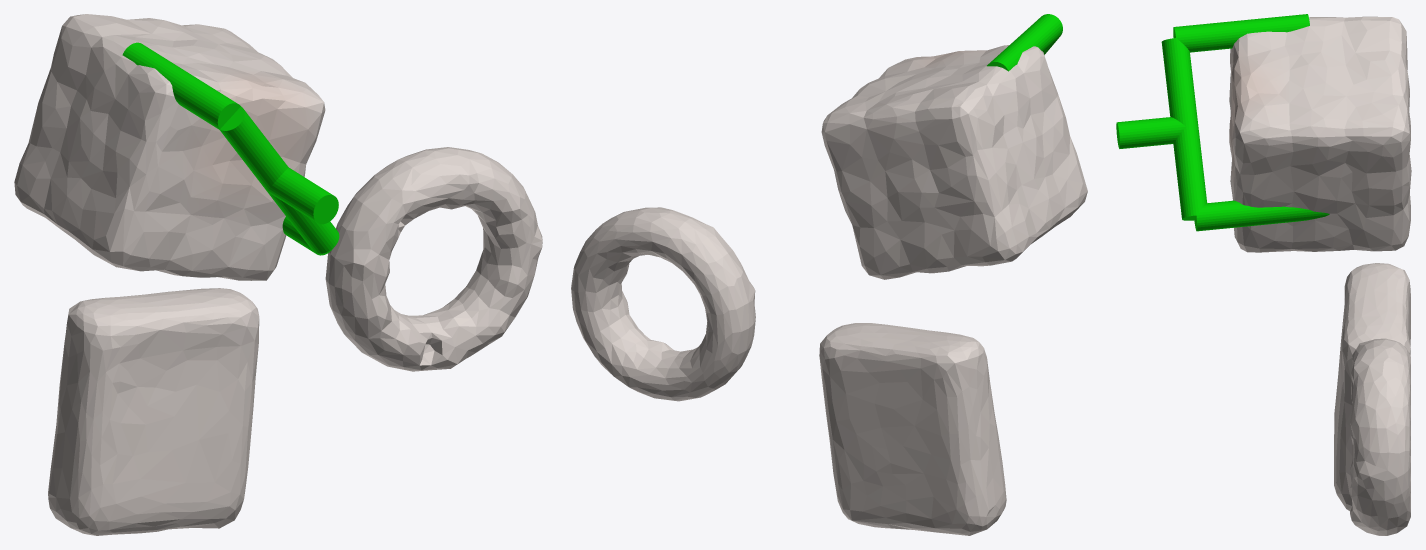
Rendered from round_000_trial_001.obj.
3 views of the same model, side by side, from view 1: azimuth 30°, elevation 25°; view 2: azimuth 150°, elevation 25°; view 3: azimuth 270°, elevation 25° (orthographic). The views are drawn at different scales.
Parts seen in each view (by area): view 1: geometry_0, geometry_1; view 2: geometry_0, geometry_1; view 3: geometry_0, geometry_1.
Part boxes in pixels (x1,y1,x2,y2): geometry_0: (14, 14, 542, 535); geometry_1: (122, 42, 339, 255); geometry_0: (571, 45, 1087, 535); geometry_1: (987, 14, 1062, 71); geometry_0: (1229, 16, 1411, 535); geometry_1: (1116, 14, 1329, 231).
Bounding box in the file's own units: 0.1864 × 0.1839 × 0.1092.
